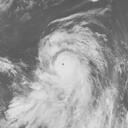cyclone: (37, 27, 96, 94)
